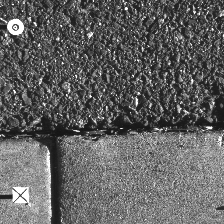circle: (6, 18, 24, 34)
crack: (1, 119, 222, 139)
square: (12, 187, 29, 203)
